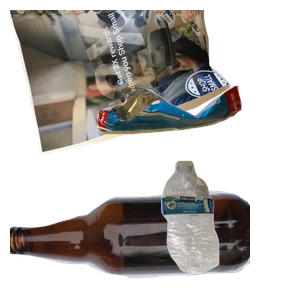glass: (10, 188, 250, 300)
paper: (10, 10, 233, 158)
plastic: (159, 158, 300, 300)
trash: (94, 83, 300, 210)
